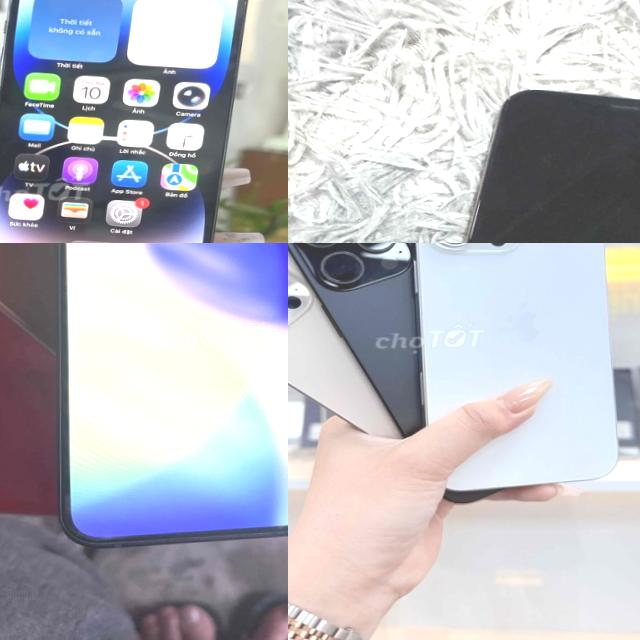gen_12_13: (51, 243, 288, 550)
gen_14: (0, 0, 259, 243)
gen_16: (408, 243, 635, 500)
gen_x_xs: (466, 90, 640, 243)
scratch: (502, 86, 538, 106)
